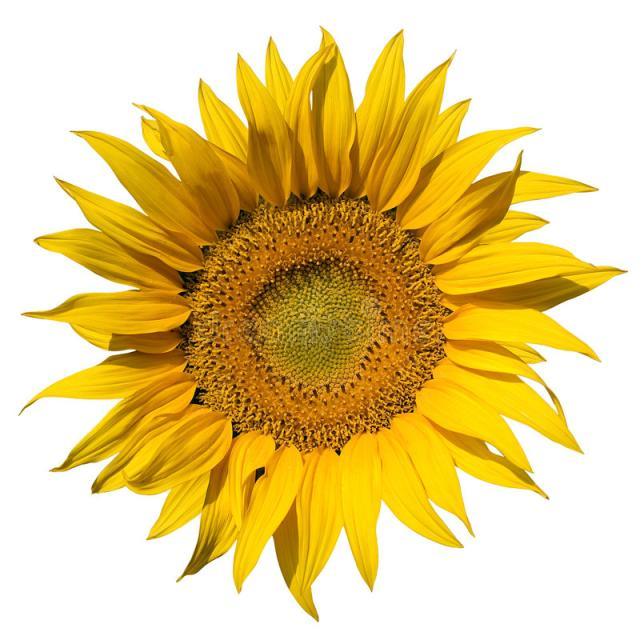sunflower: (20, 21, 634, 625)
